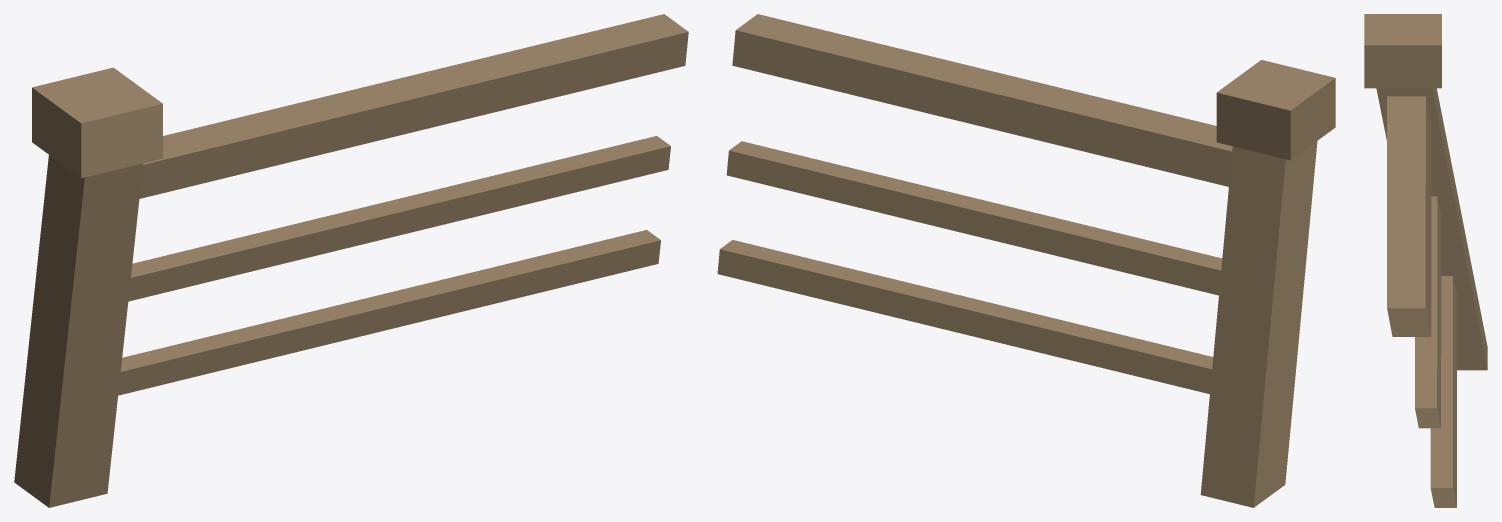
The model's file is LightWoodWallSmallGuardRail1.fbx.
3 views of the same model, side by side, from view 1: azimuth 30°, elevation 25°; view 2: azimuth 150°, elevation 25°; view 3: azimuth 270°, elevation 25° (orthographic). The views are drawn at different scales.
Visible parts, largest first — view 1: LightWoodWallSmallGuardRail1; view 2: LightWoodWallSmallGuardRail1; view 3: LightWoodWallSmallGuardRail1.
Part boxes in pixels (<box>): LightWoodWallSmallGuardRail1: <box>14,14,688,507</box>; LightWoodWallSmallGuardRail1: <box>717,14,1335,507</box>; LightWoodWallSmallGuardRail1: <box>1364,14,1487,507</box>.
Bounding box in the file's own units: 207 × 133 × 45.32.
